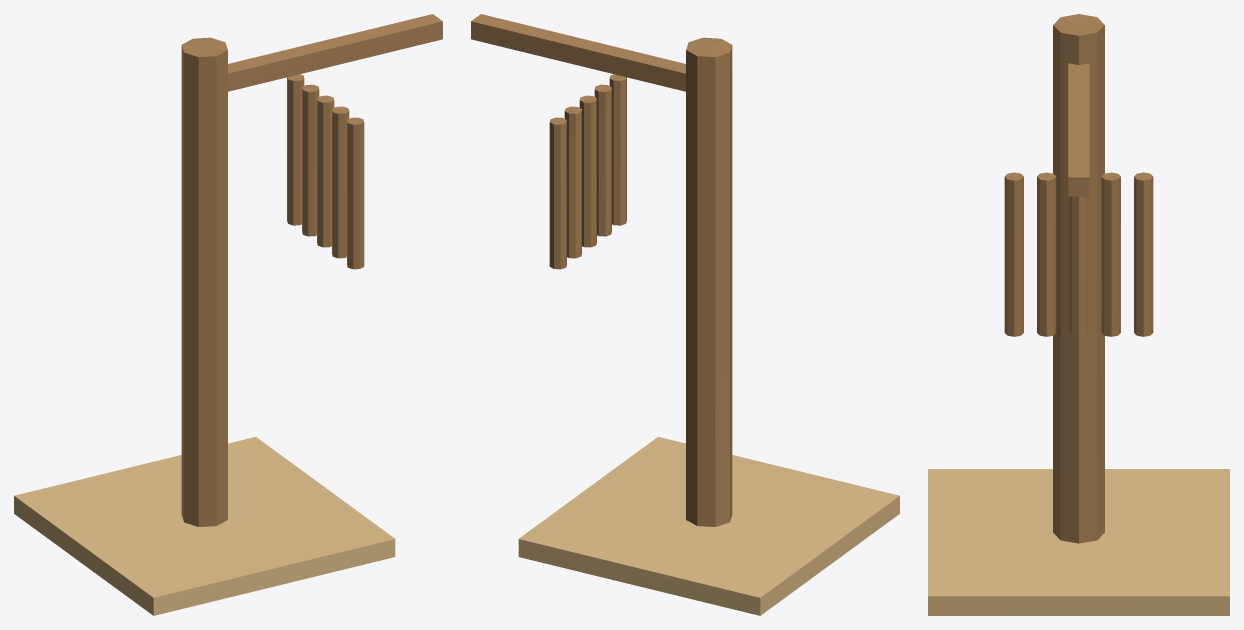
Rendered from Wind-chimes.glb.
The picture shows the model from 3 angles, left to right: view 1: azimuth 30°, elevation 25°; view 2: azimuth 150°, elevation 25°; view 3: azimuth 270°, elevation 25°; orthographic projection. The views are drawn at different scales.
Visible parts, largest first — view 1: wind-chimes-static-wind-chimes-earth, wind-chimes-static-wind-chimes-timber, wind-chimes-static-wind-chimes-accent, wind-chimes-static-wind-chimes-teal; view 2: wind-chimes-static-wind-chimes-earth, wind-chimes-static-wind-chimes-timber, wind-chimes-static-wind-chimes-accent, wind-chimes-static-wind-chimes-teal; view 3: wind-chimes-static-wind-chimes-earth, wind-chimes-static-wind-chimes-timber, wind-chimes-static-wind-chimes-accent, wind-chimes-static-wind-chimes-teal.
Boxes of the visible parts, x1,y1,x2,y2 form: wind-chimes-static-wind-chimes-earth: (14,437,395,615); wind-chimes-static-wind-chimes-timber: (181,37,227,526); wind-chimes-static-wind-chimes-accent: (287,74,364,269); wind-chimes-static-wind-chimes-teal: (228,14,442,91); wind-chimes-static-wind-chimes-earth: (518,437,899,615); wind-chimes-static-wind-chimes-timber: (686,37,732,526); wind-chimes-static-wind-chimes-accent: (549,74,626,269); wind-chimes-static-wind-chimes-teal: (471,14,685,91); wind-chimes-static-wind-chimes-earth: (928,469,1229,615); wind-chimes-static-wind-chimes-timber: (1053,14,1104,543); wind-chimes-static-wind-chimes-accent: (1004,172,1153,336); wind-chimes-static-wind-chimes-teal: (1068,63,1089,196).
Size of the model in its own units: 2.05 by 2.7 by 1.4.
